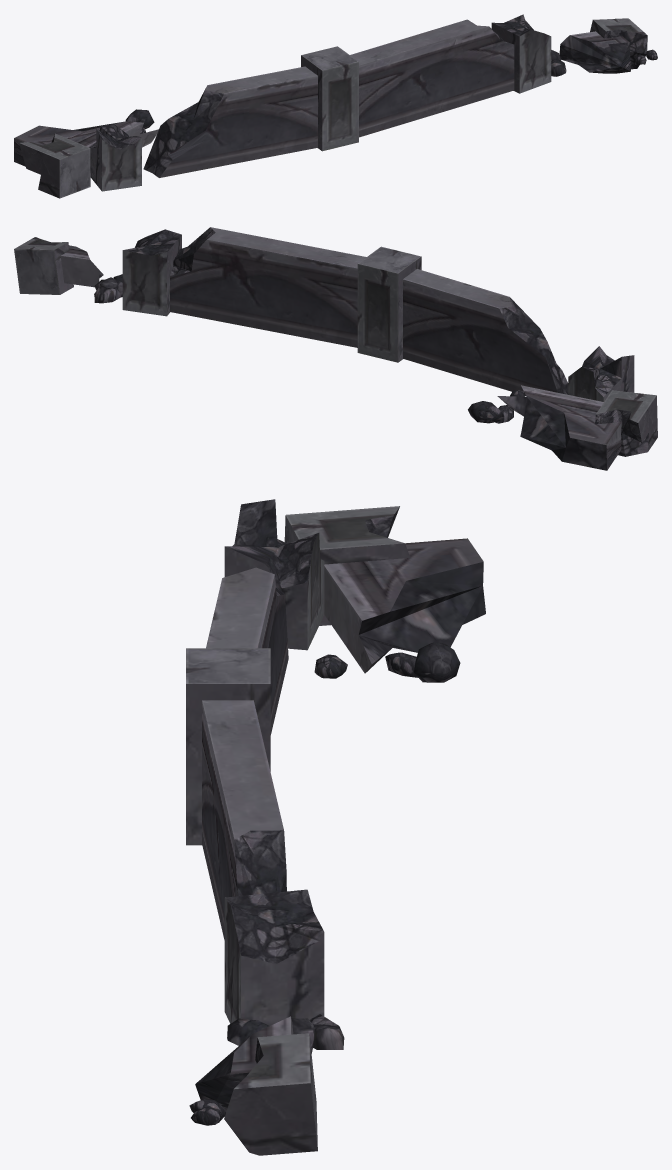
The model's file is BOSS_Wall_02.FBX.
The picture shows the model from 3 angles, top to bottom: view 1: azimuth 30°, elevation 25°; view 2: azimuth 150°, elevation 25°; view 3: azimuth 270°, elevation 25°; orthographic projection. The views are drawn at different scales.
Visible parts, largest first — view 1: BOSS_Wall_02; view 2: BOSS_Wall_02; view 3: BOSS_Wall_02.
Part boxes in pixels (bbox=[...]): BOSS_Wall_02: bbox=[14, 14, 657, 198]; BOSS_Wall_02: bbox=[14, 227, 657, 470]; BOSS_Wall_02: bbox=[186, 499, 485, 1155].
Size of the model in its own units: 7.97 by 1.2 by 1.76.
